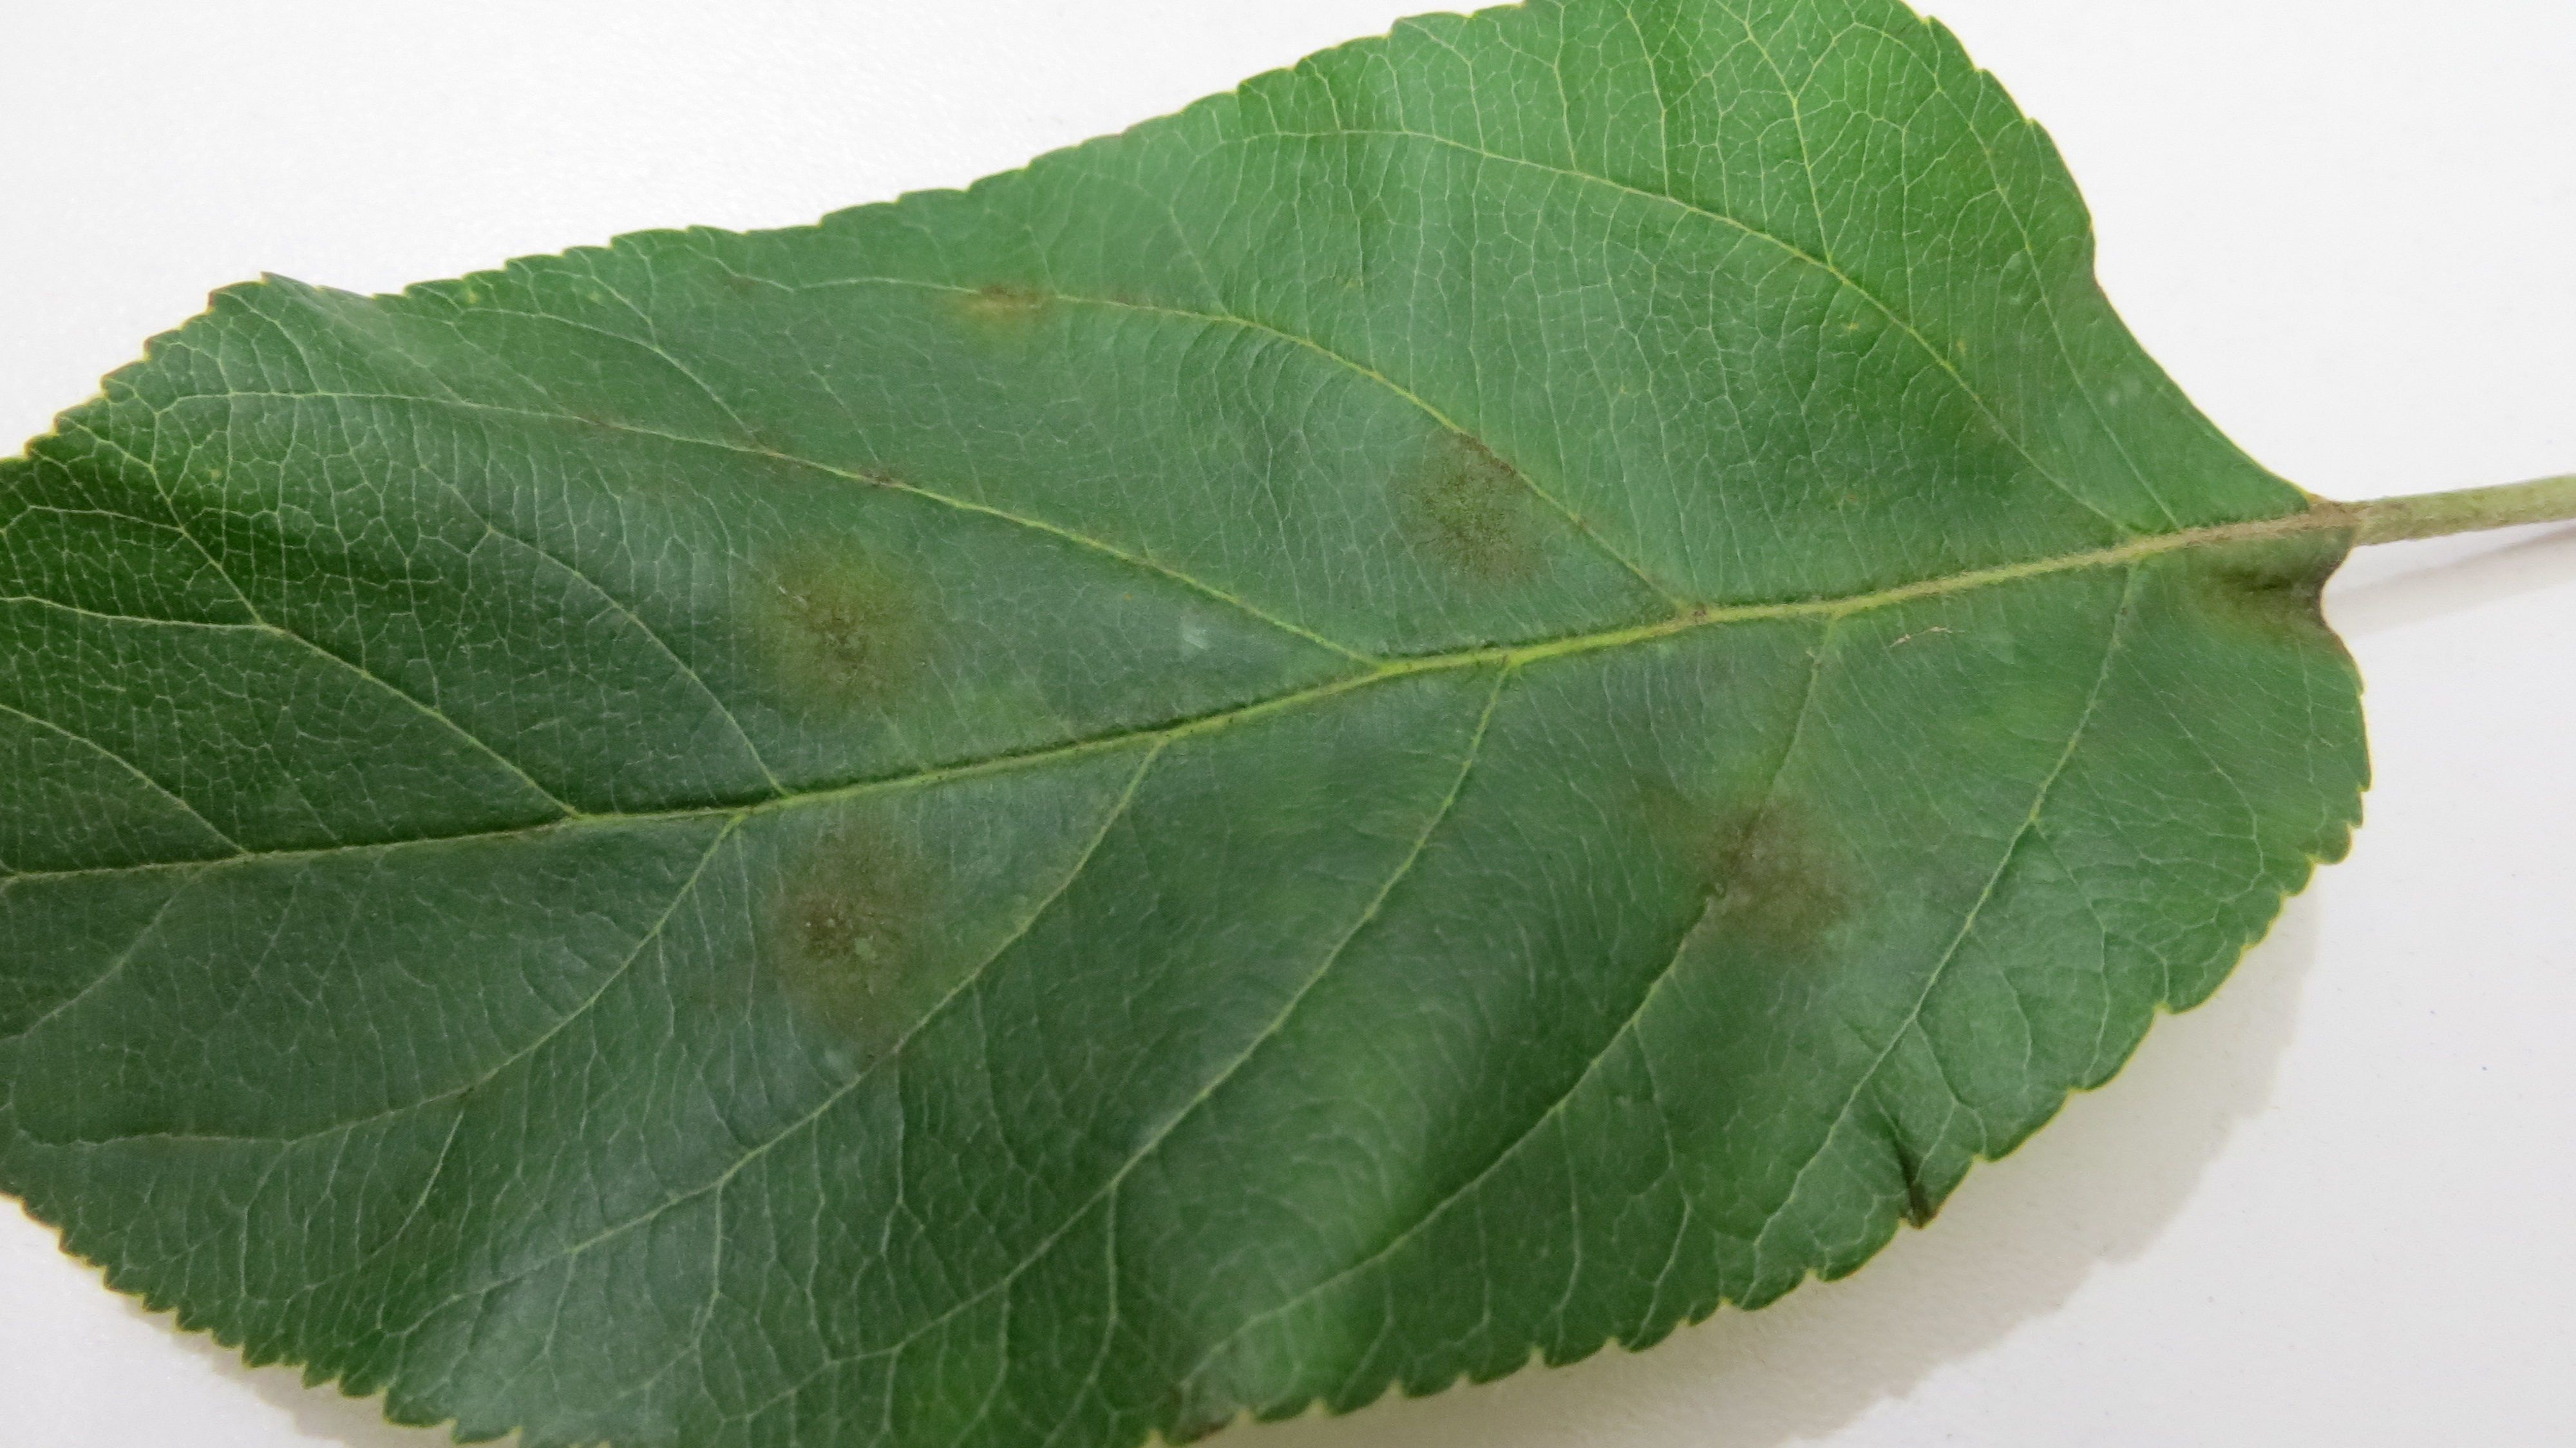sarna: (768, 805, 955, 1043), (1672, 777, 1867, 965), (743, 536, 936, 705), (1398, 409, 1553, 614), (2189, 506, 2341, 680), (932, 239, 1076, 352)
